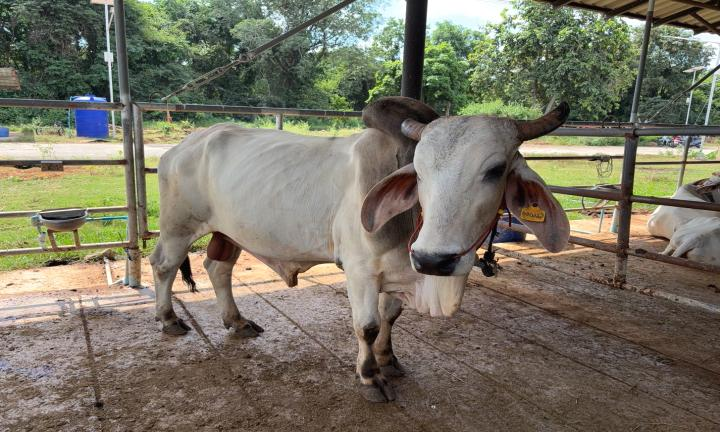Brahman: (151, 97, 569, 402)
